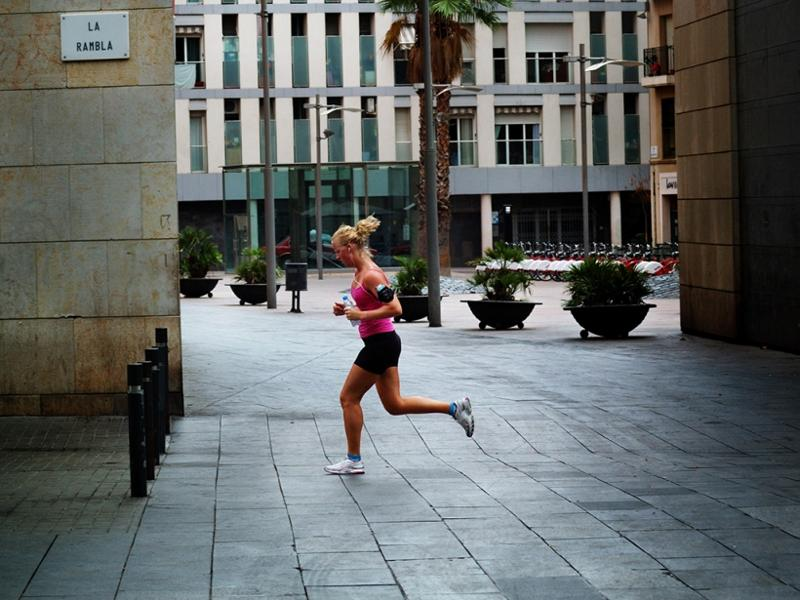person: (333, 214, 478, 480)
